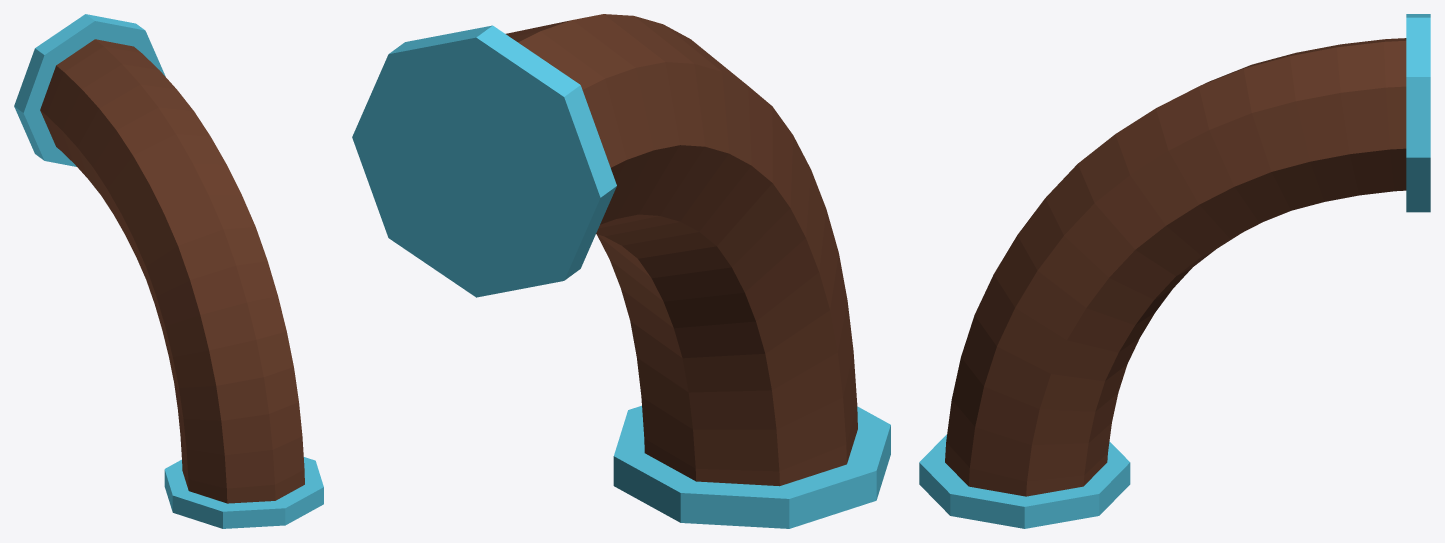
File: PipeCurved.fbx
3 renders of one model, left to right at view 1: azimuth 30°, elevation 25°; view 2: azimuth 150°, elevation 25°; view 3: azimuth 270°, elevation 25°, orthographic. The views are drawn at different scales.
Parts seen in each view (by area): view 1: Pipe90; view 2: Pipe90; view 3: Pipe90.
Part boxes in pixels (x1,y1,x2,y2): Pipe90: (14,14,323,528); Pipe90: (352,14,890,528); Pipe90: (919,14,1430,528).
Bounding box in the file's own units: 26 × 63.48 × 63.03.
